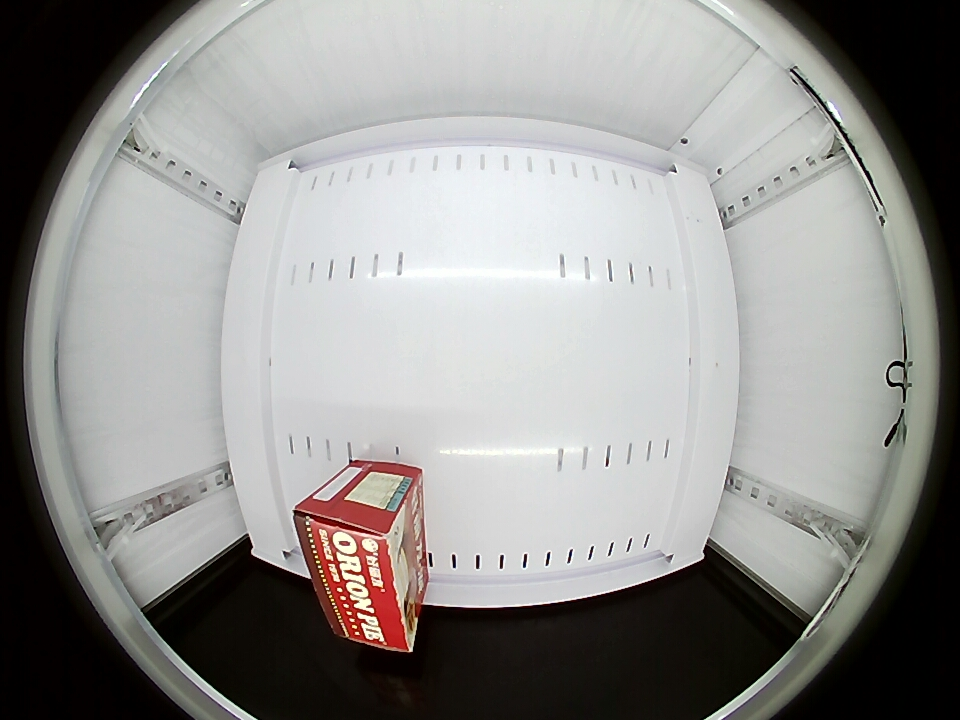haoliyou: (292, 473, 421, 652)
